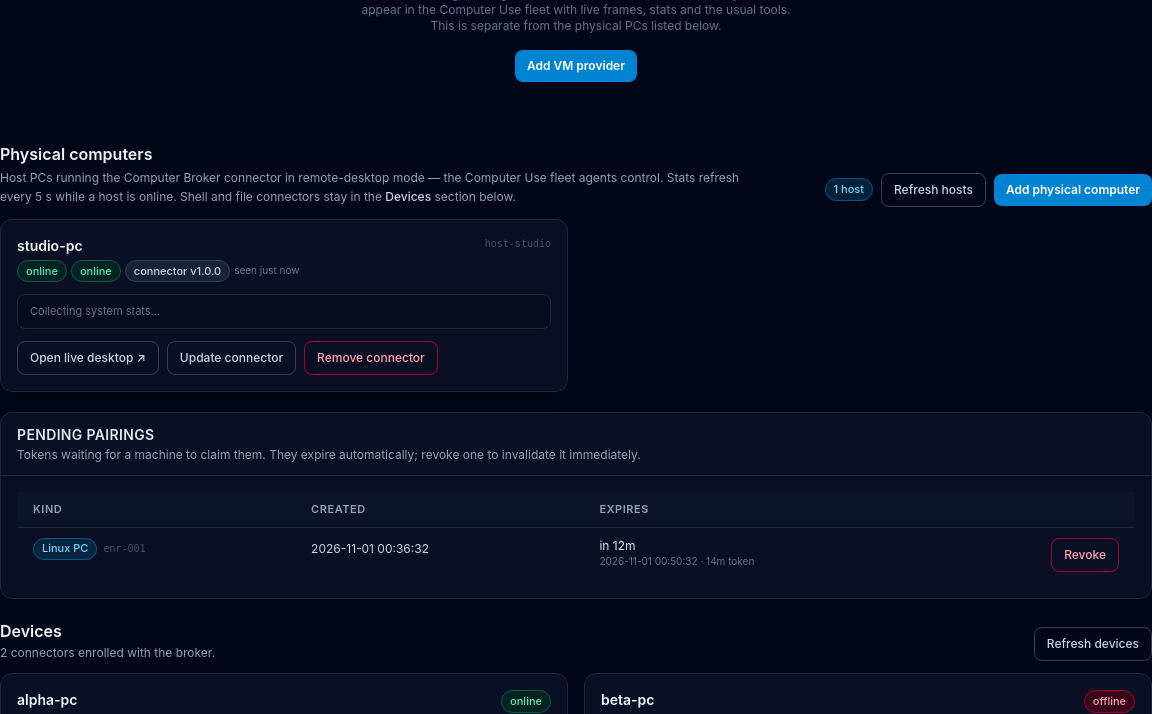
Test: Connectors page — physical computers (v0.12) › updates a host connector after confirmation and shows the new version
(page scrolled)
Click the button with aria-label "Update connector on studio-pc": (232, 358) [167,340,296,374]
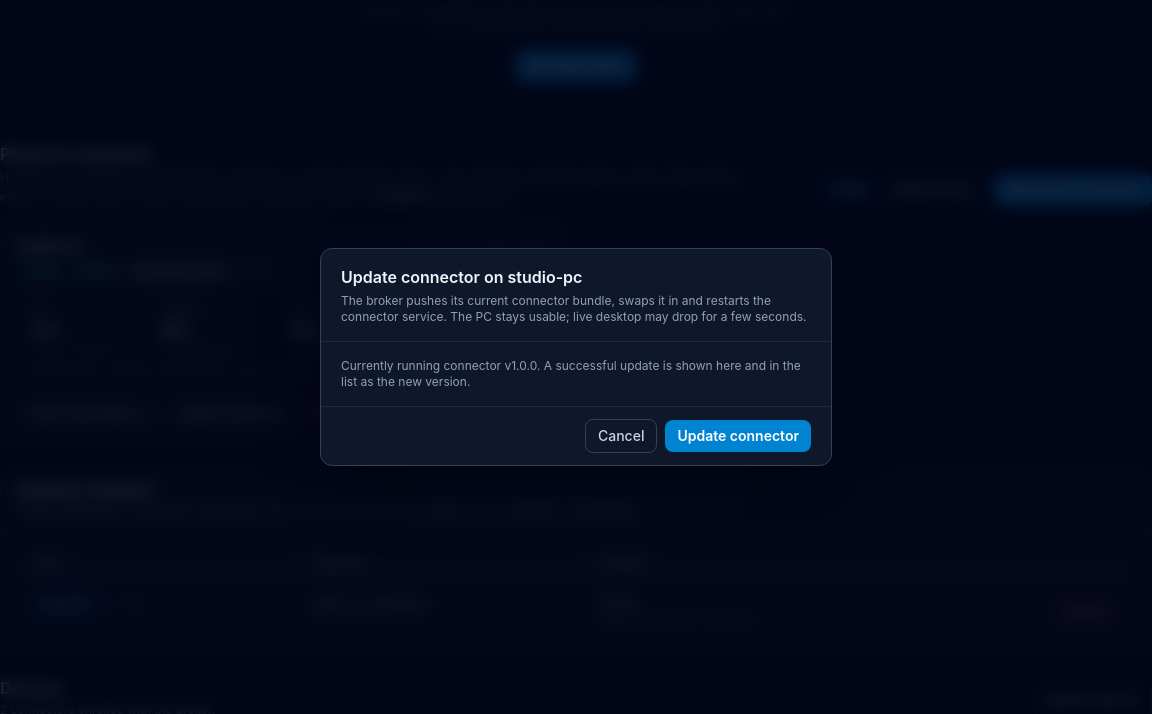
Click the button "Update connector": (738, 436) [665,420,811,452]
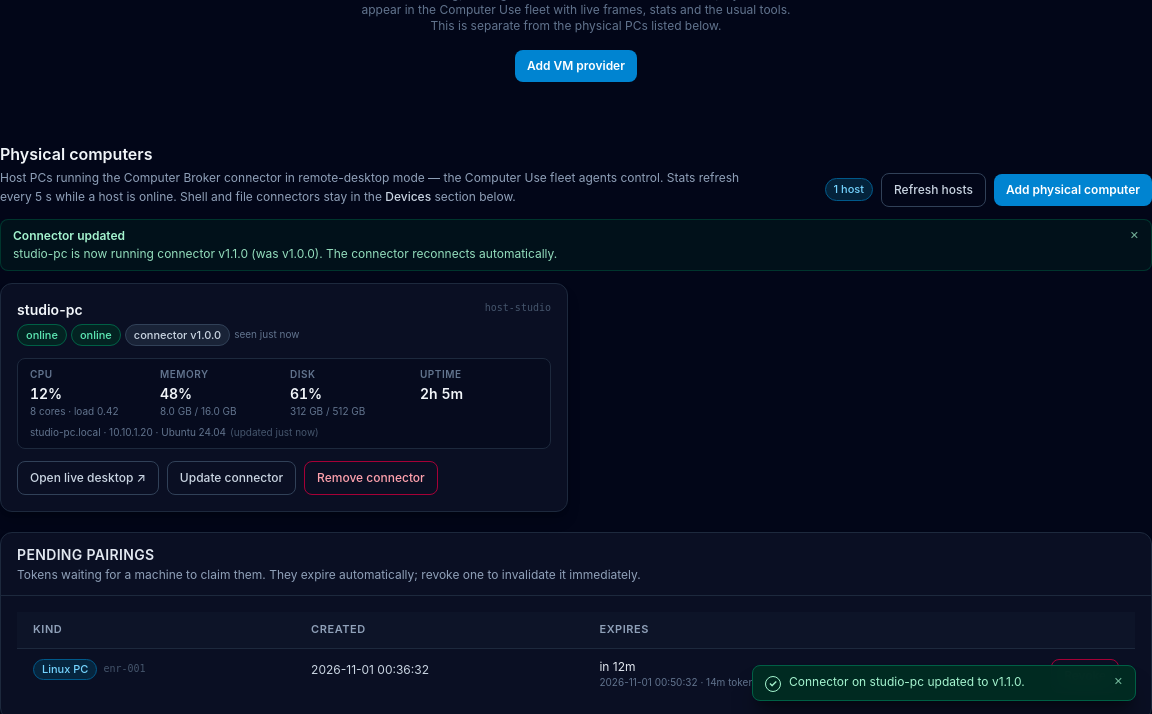
Result: the text "is now running connector v1.1.0" is shown at [13,246,557,262]
